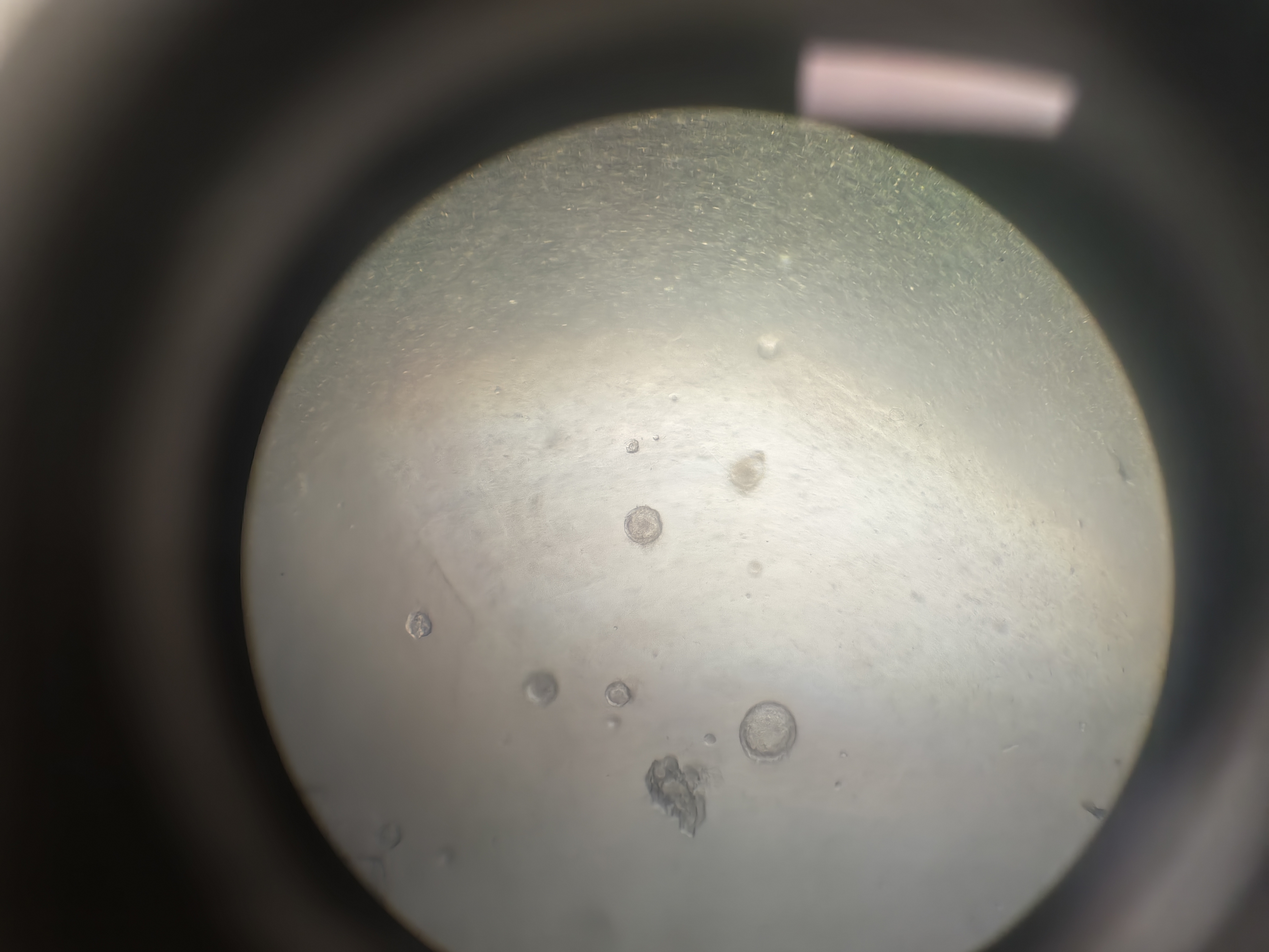organoid: (771, 439, 903, 570)
